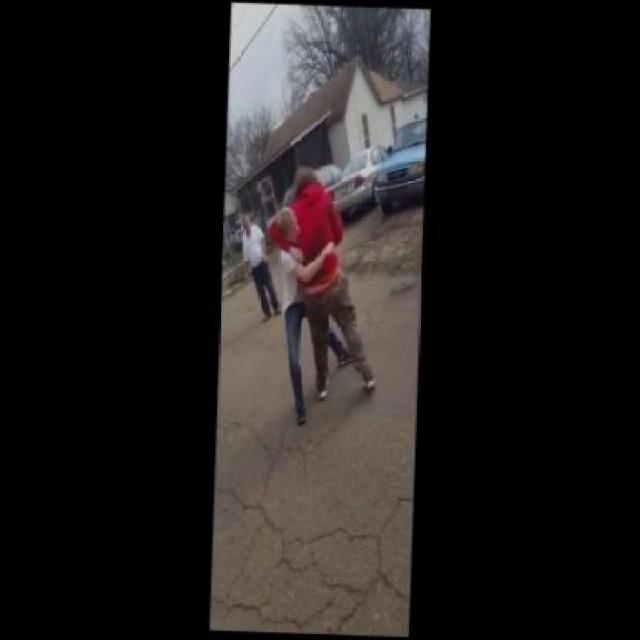fight: (270, 166, 377, 425)
non-fight: (240, 211, 282, 320)
